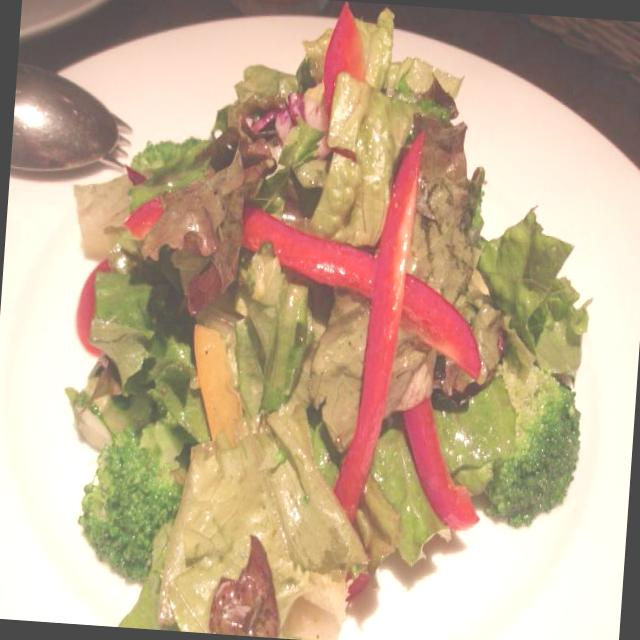Green Salad: (59, 69, 576, 586)
